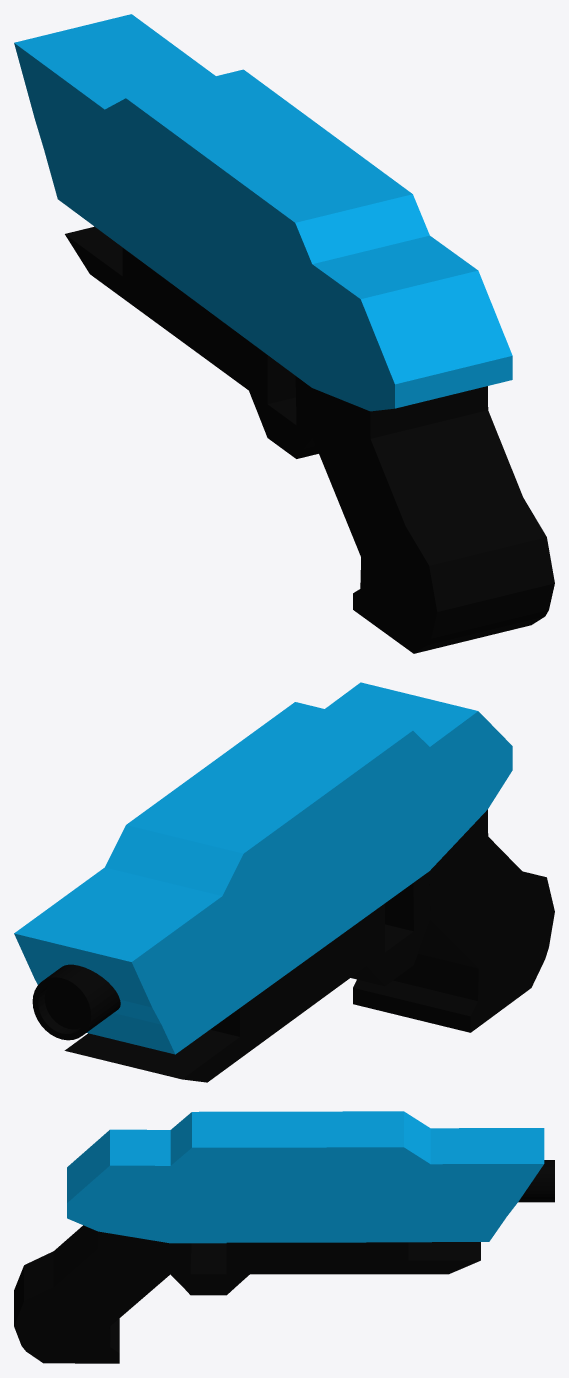
The model's file is tabanca.fbx.
3 views of the same model, one above another, from view 1: azimuth 30°, elevation 25°; view 2: azimuth 150°, elevation 25°; view 3: azimuth 270°, elevation 25° (orthographic). The views are drawn at different scales.
Parts seen in each view (by area): view 1: Cube; view 2: Cube; view 3: Cube.
Part boxes in pixels (left/top/right/bottom): Cube: left=14, top=14, right=554, bottom=653; Cube: left=14, top=682, right=554, bottom=1082; Cube: left=14, top=1111, right=554, bottom=1363.
Bounding box in the file's own units: 57.78 × 162 × 367.
